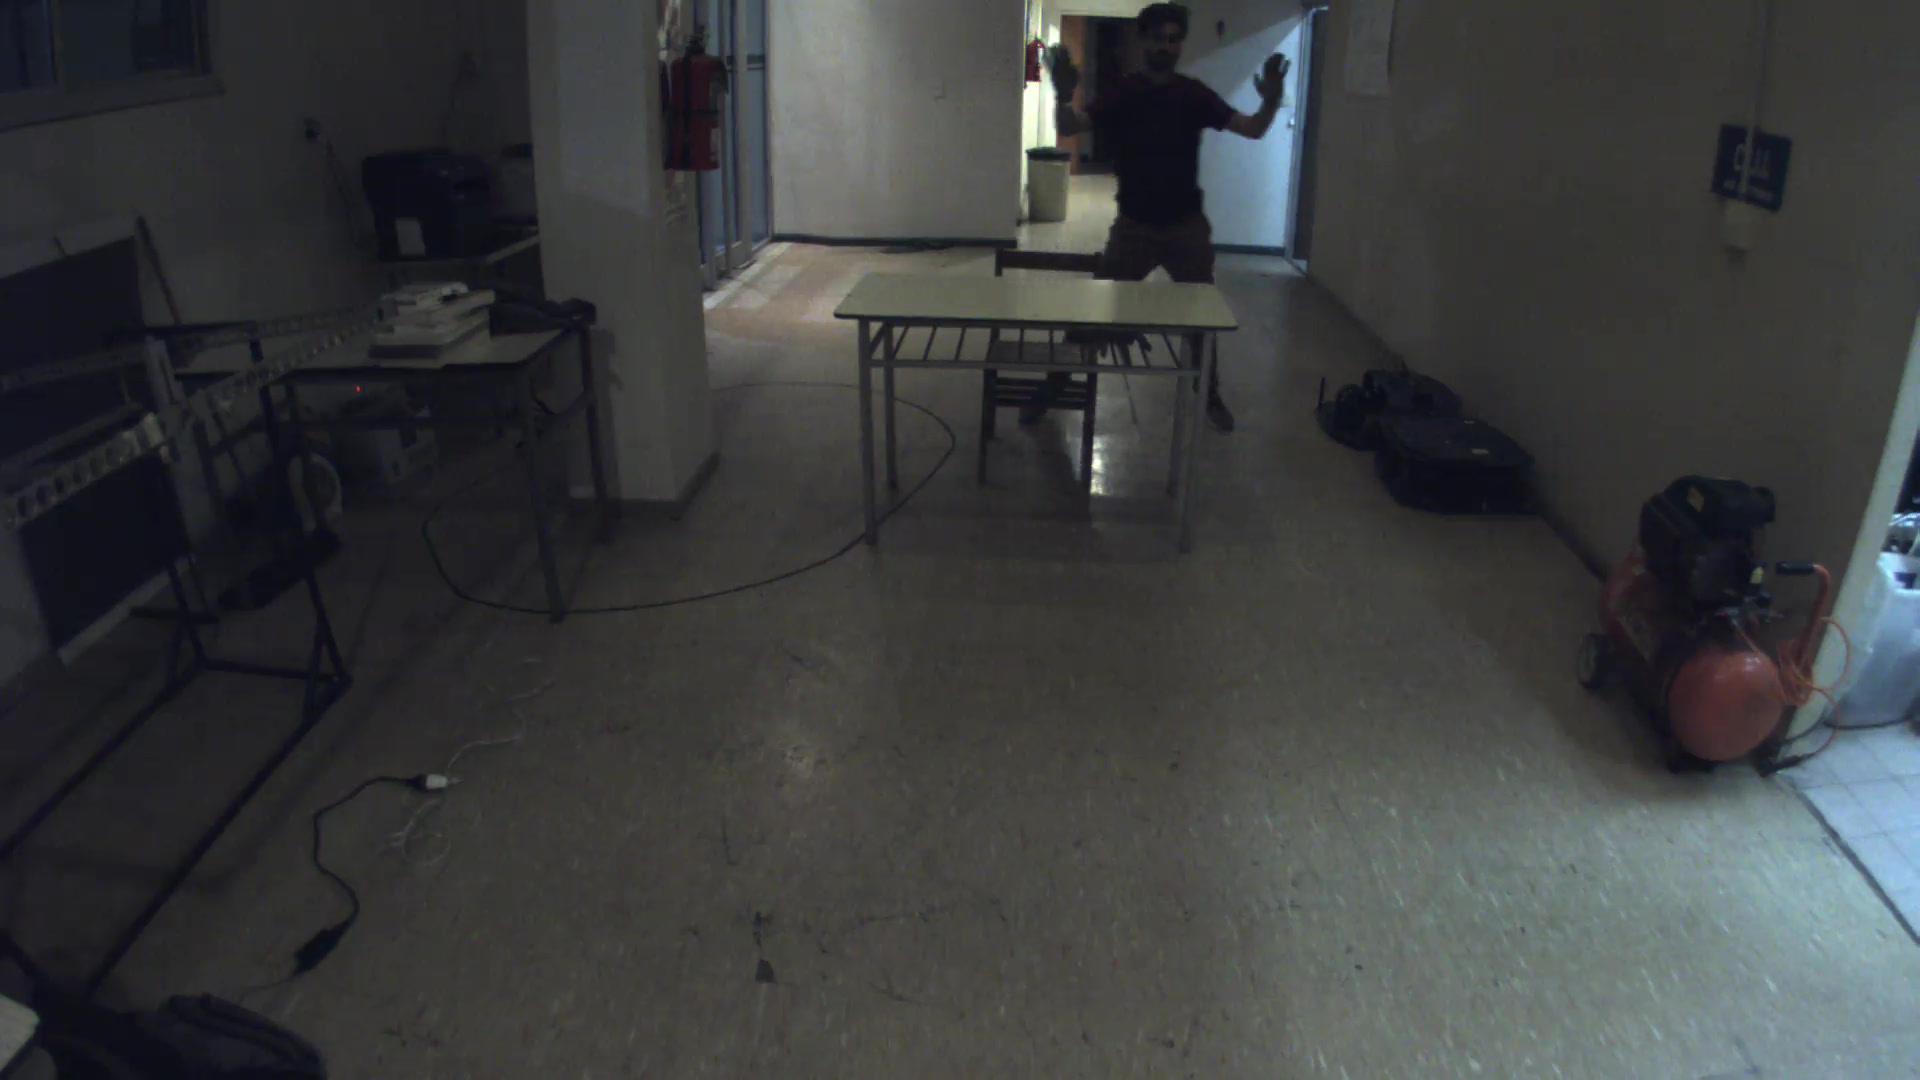hand: (1031, 30, 1093, 102), (1247, 47, 1295, 117)
